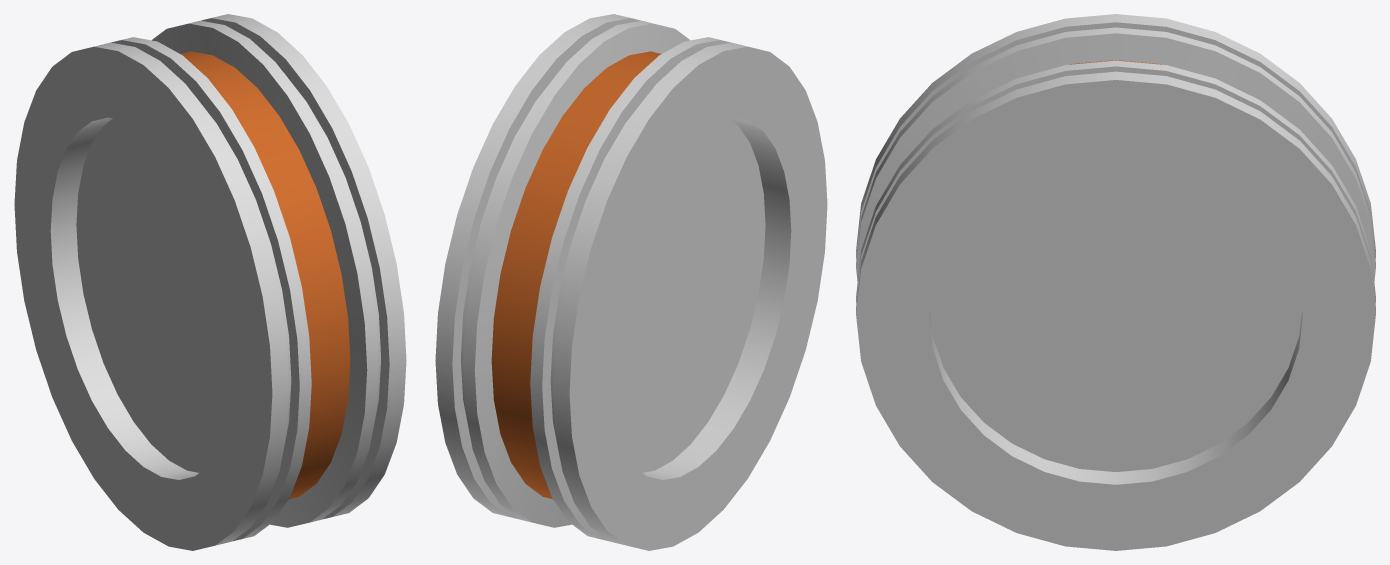
File: CenterCylinder.glb
3 views of the same model, side by side, from view 1: azimuth 30°, elevation 25°; view 2: azimuth 150°, elevation 25°; view 3: azimuth 270°, elevation 25° (orthographic).
Parts seen in each view (by area): view 1: Cylinder; view 2: Cylinder; view 3: Cylinder.
Boxes of the visible parts, box(x1,y1,x2,y2) form: Cylinder: box(14, 14, 406, 550); Cylinder: box(435, 14, 827, 550); Cylinder: box(856, 14, 1375, 550).
Size of the model in its own units: 0.6 by 2 by 2.
